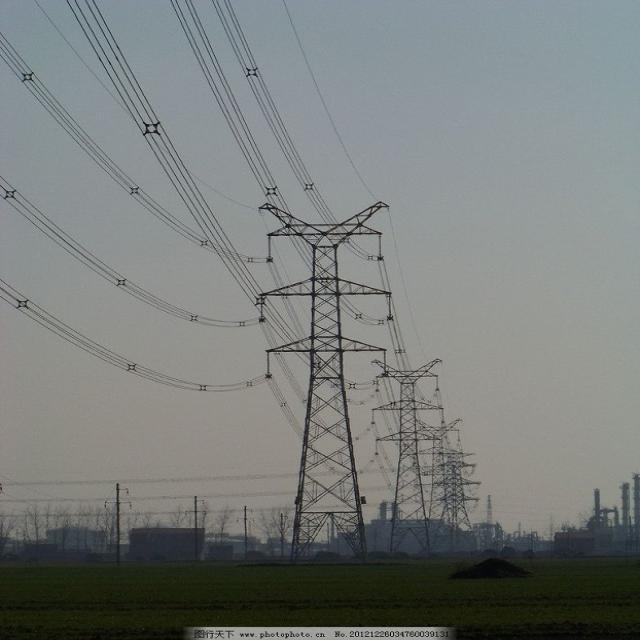non-critical vegetation: (230, 187, 400, 558), (363, 352, 449, 554), (413, 414, 463, 550)
